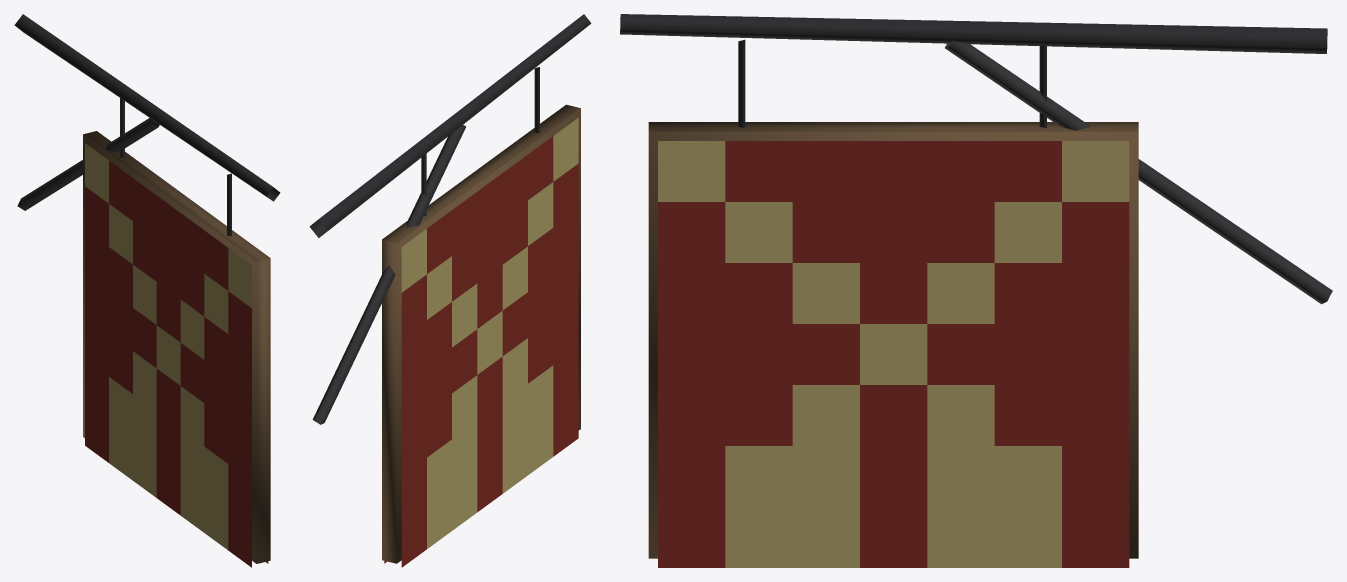
The model's file is insegna-forbici.glb.
The picture shows the model from 3 angles, left to right: view 1: azimuth 30°, elevation 25°; view 2: azimuth 150°, elevation 25°; view 3: azimuth 270°, elevation 25°; orthographic projection. The views are drawn at different scales.
Visible parts, largest first — view 1: insegna-forbici; view 2: insegna-forbici; view 3: insegna-forbici.
Boxes of the visible parts, <box> form: insegna-forbici: <box>14,14,280,567</box>; insegna-forbici: <box>309,14,591,567</box>; insegna-forbici: <box>620,14,1332,567</box>.
Size of the model in its own units: 0.03 by 0.642 by 0.7563.
